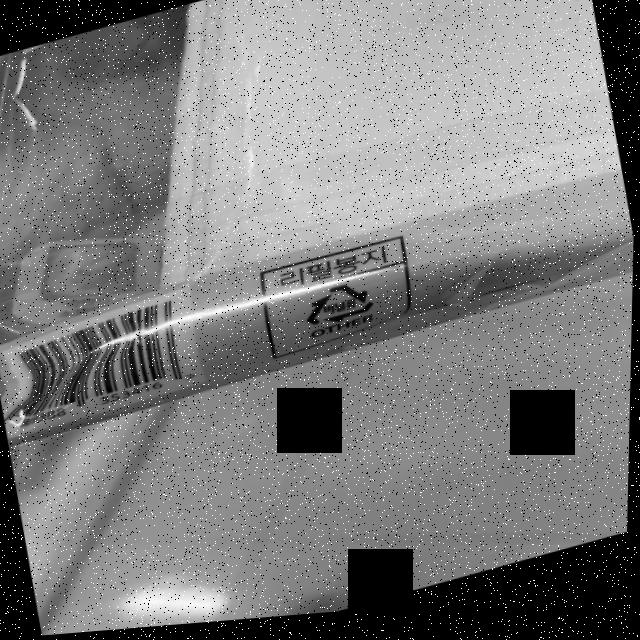Vinyl: (301, 281, 380, 338)
